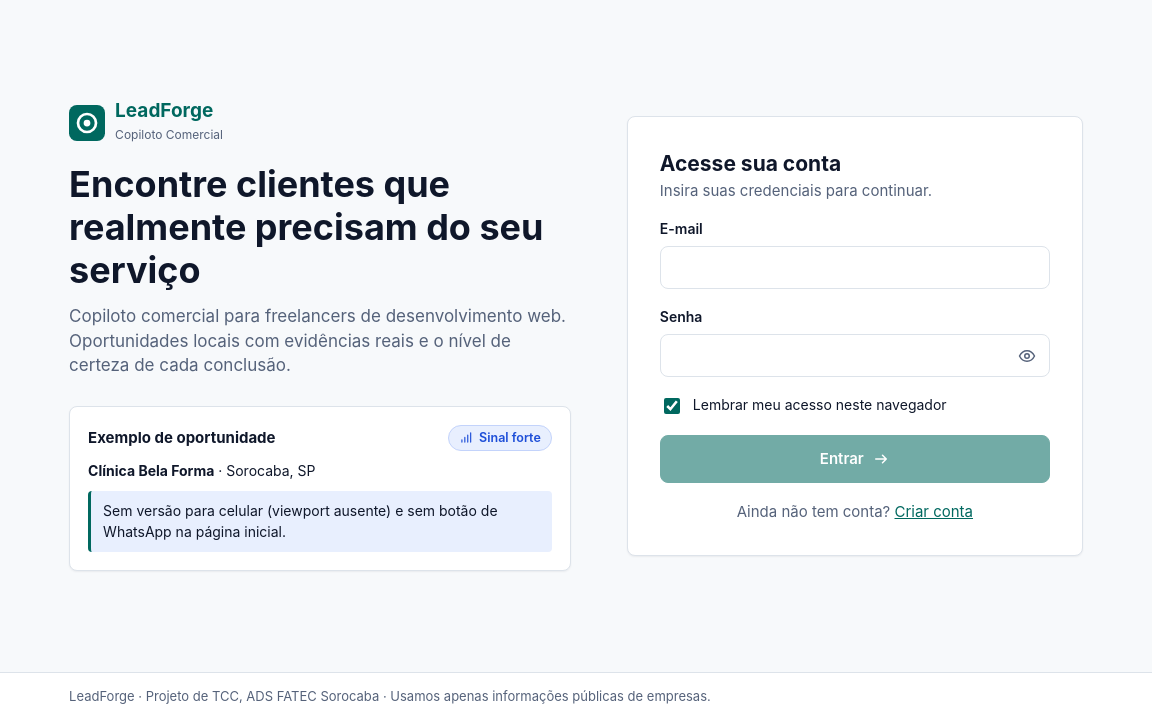
Test: tela Entrar › mantém o botão desabilitado até preencher e mostra erro de credenciais
expect the button "Entrar" is disabled: met, box [660,436,1050,483]
Type "lucas@exemplo.com" into the field labelled "E-mail" at x=855, y=268, box [660,246,1050,290]
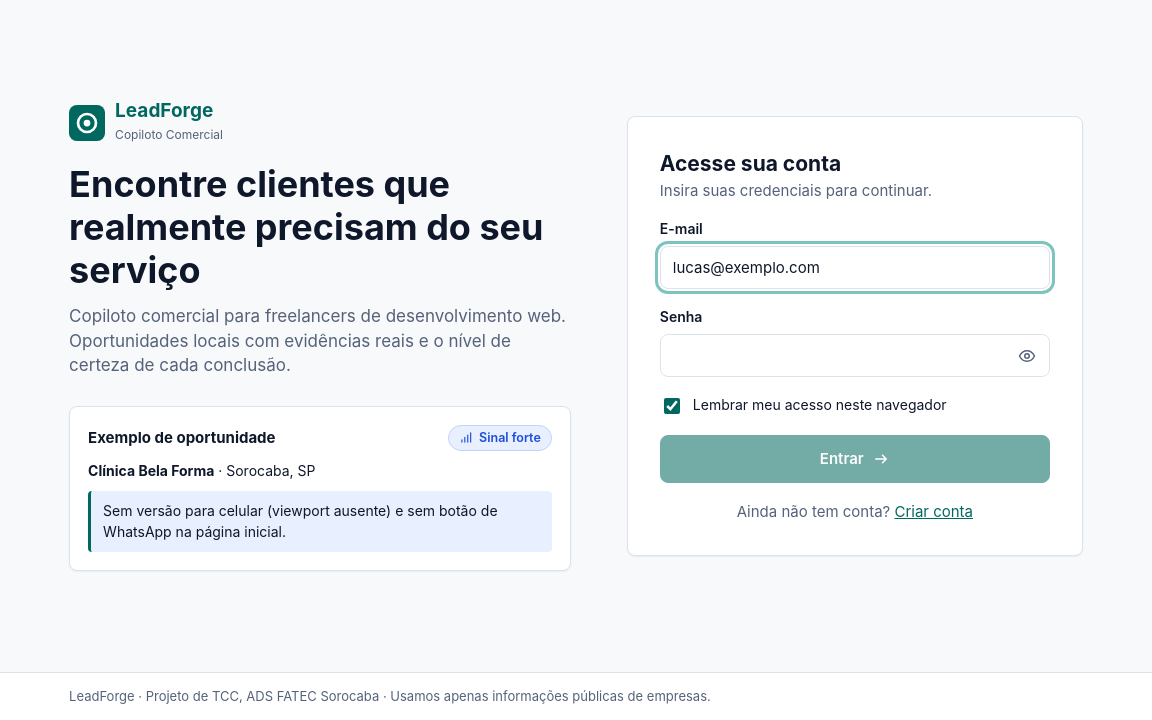
Type "errada123" into the password field labelled "Senha" at x=855, y=356, box [660,334,1050,378]
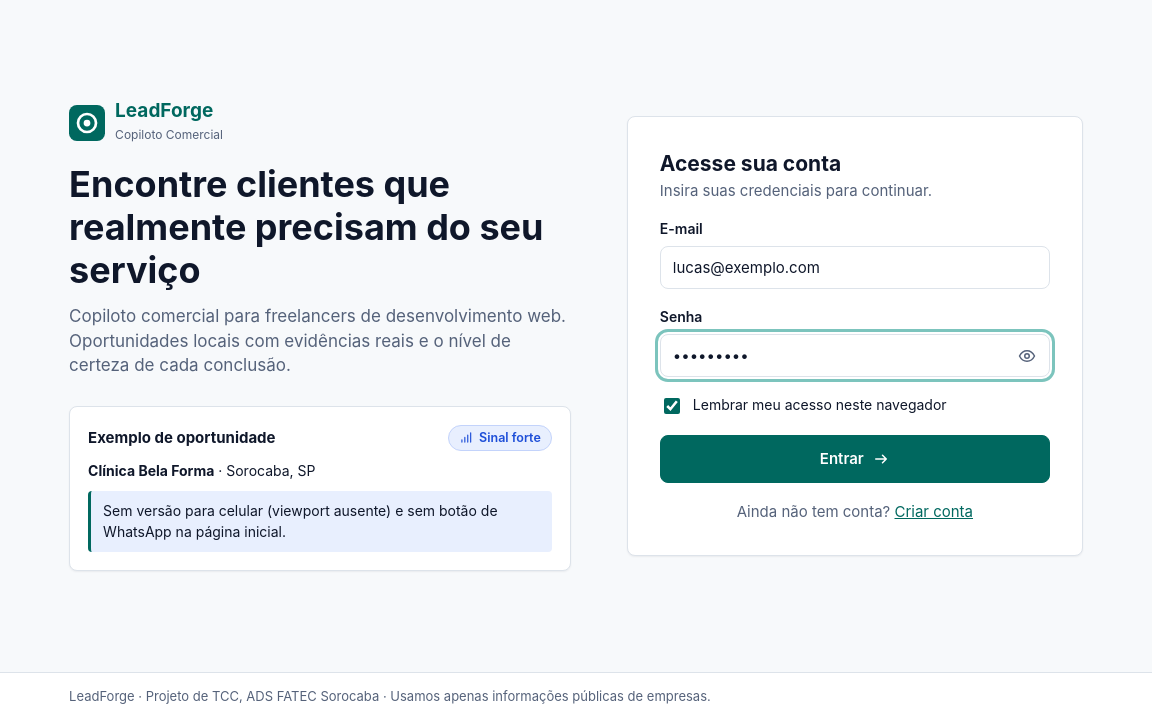
Click the button "Entrar" at x=855, y=459, box [660,436,1050,483]
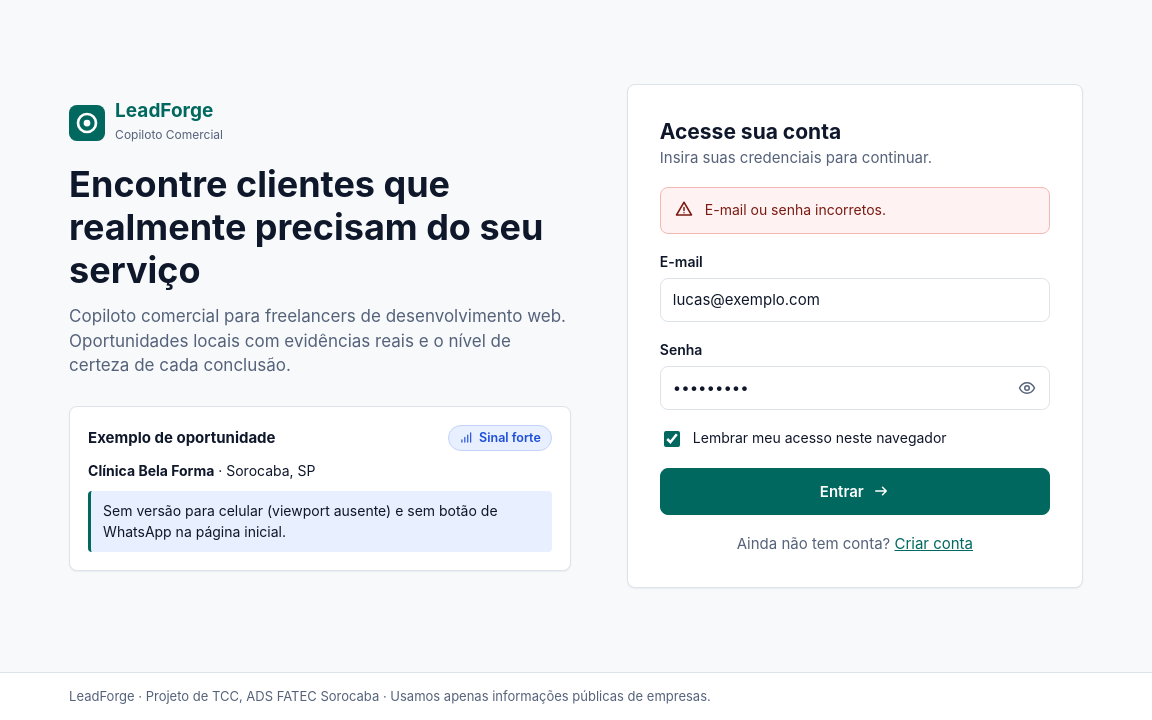
expect the message reads "E-mail ou senha incorretos.": met, box [705,201,886,218]
